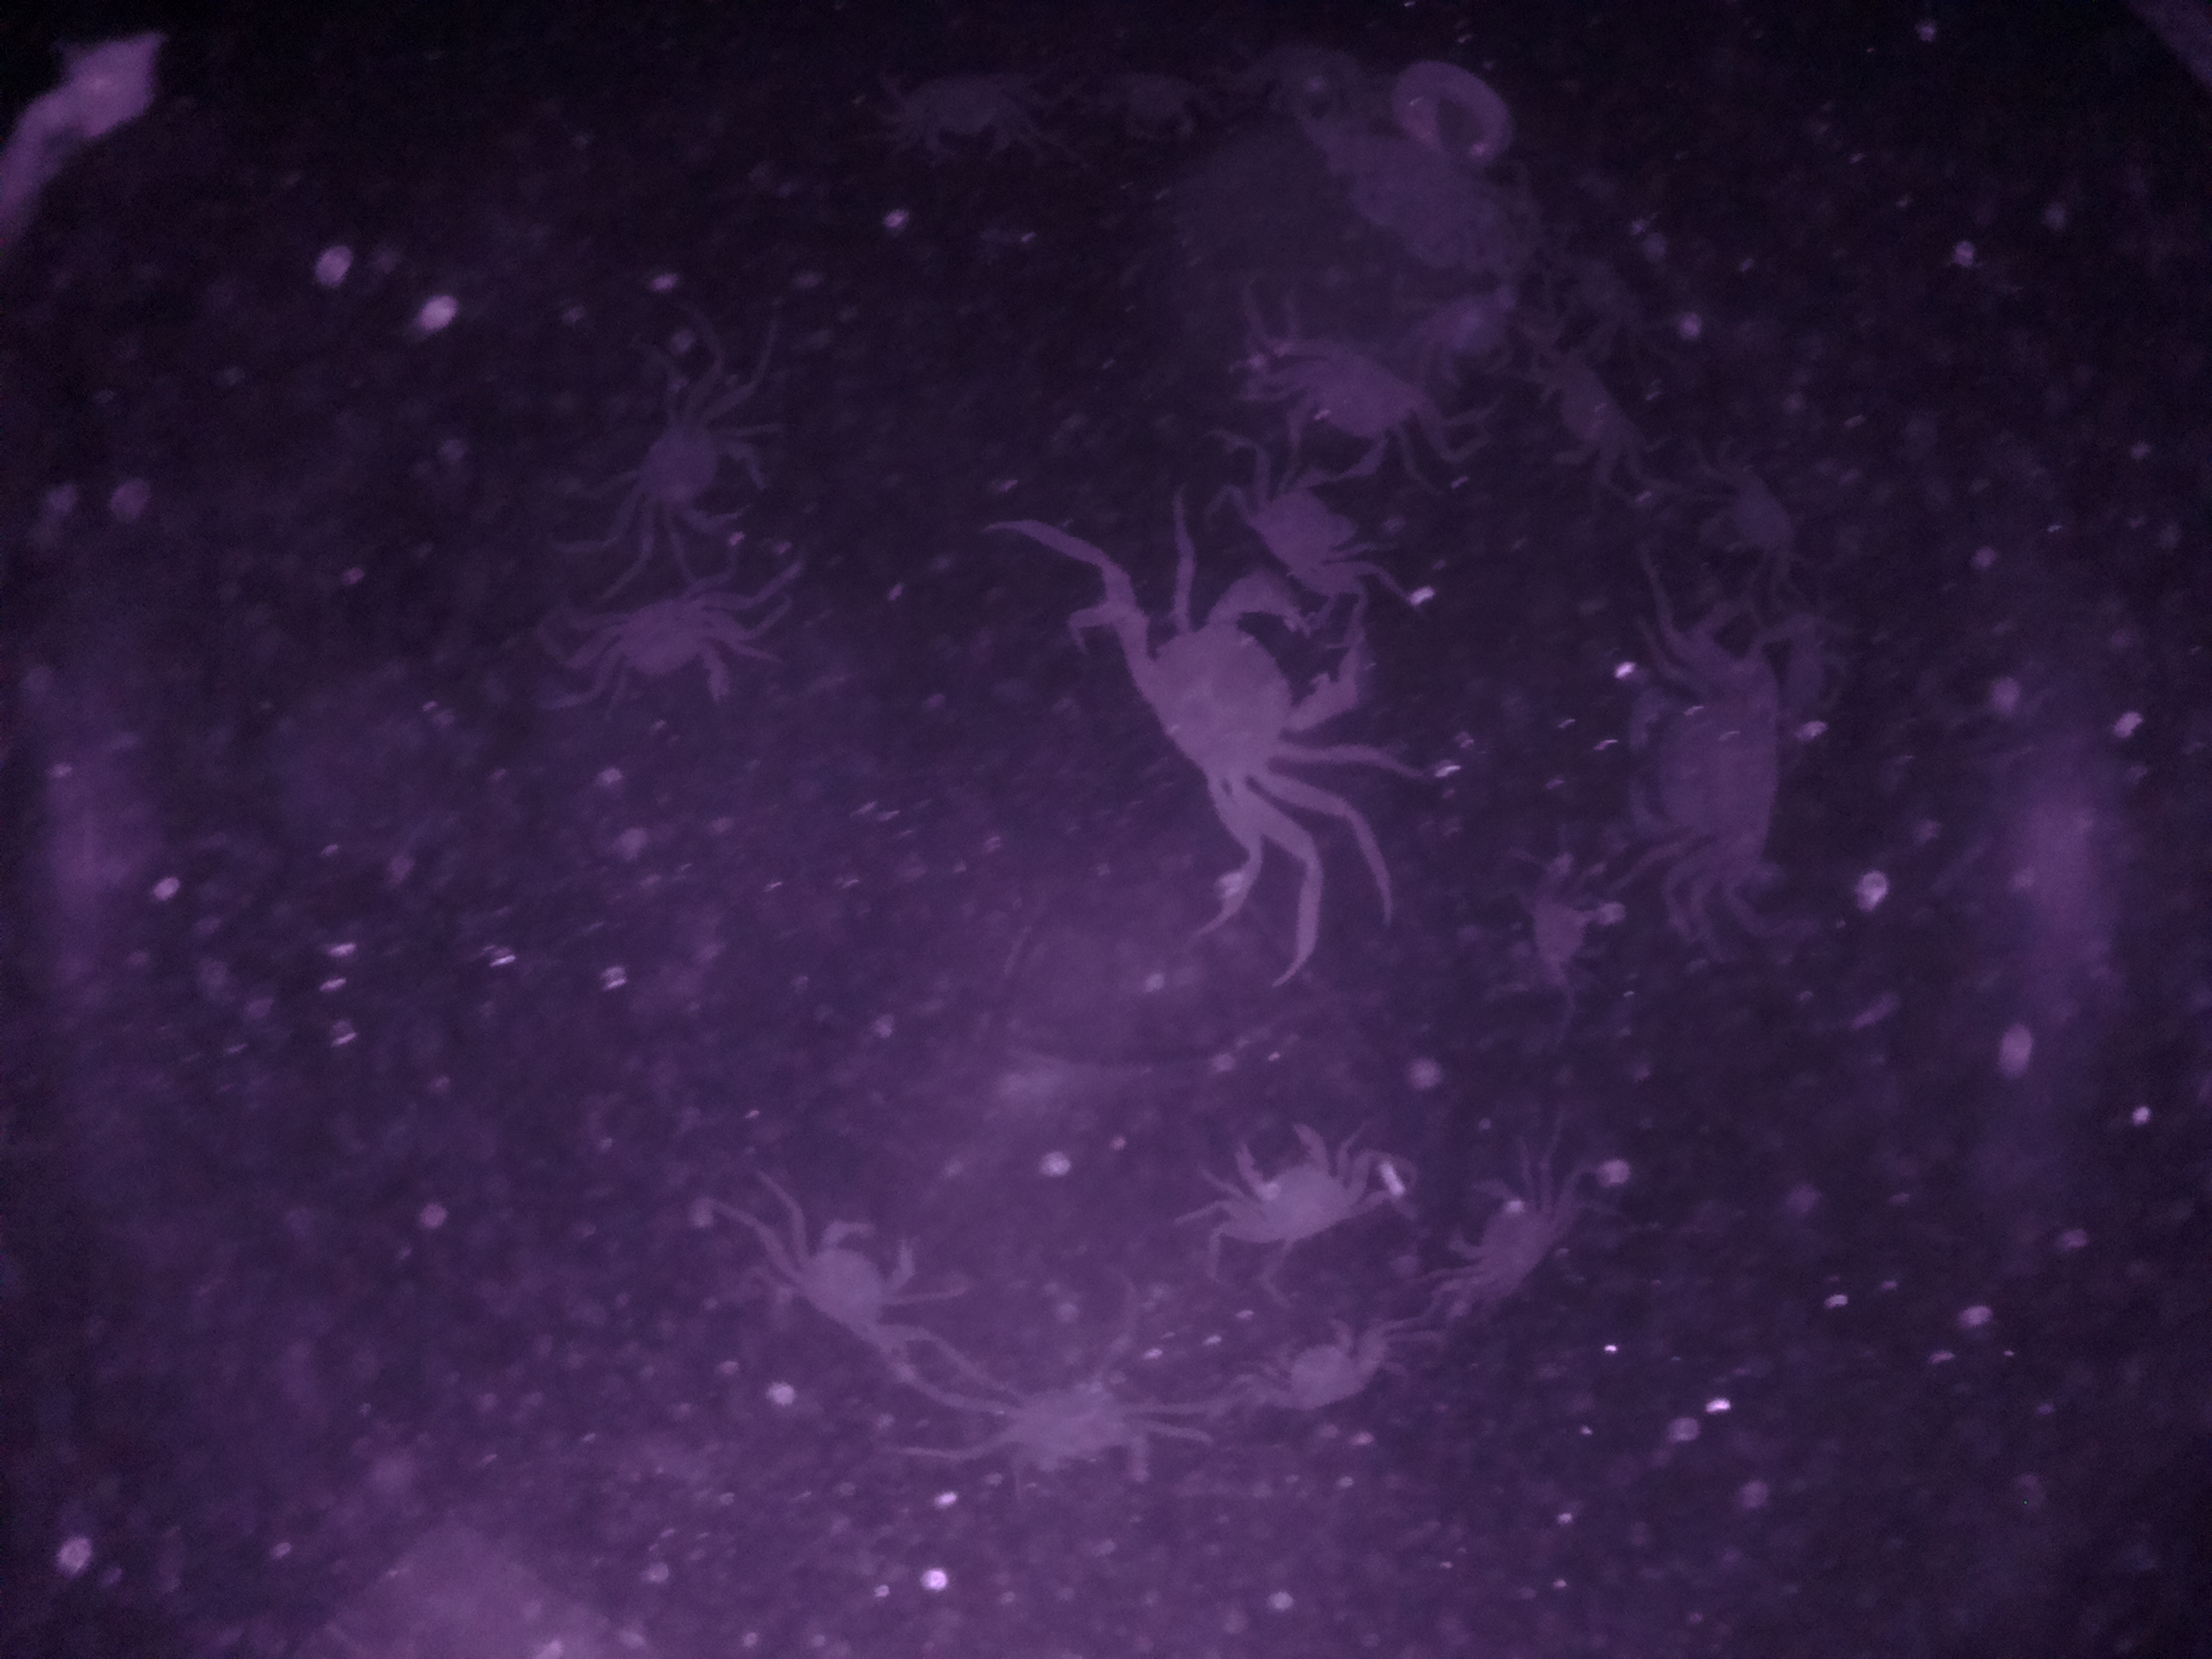Crab: (1122, 561, 1385, 849), (1599, 648, 1804, 896), (1245, 331, 1458, 497), (763, 1194, 951, 1380), (563, 565, 770, 725), (1197, 1107, 1388, 1260), (599, 390, 775, 540), (1428, 1157, 1576, 1319)
